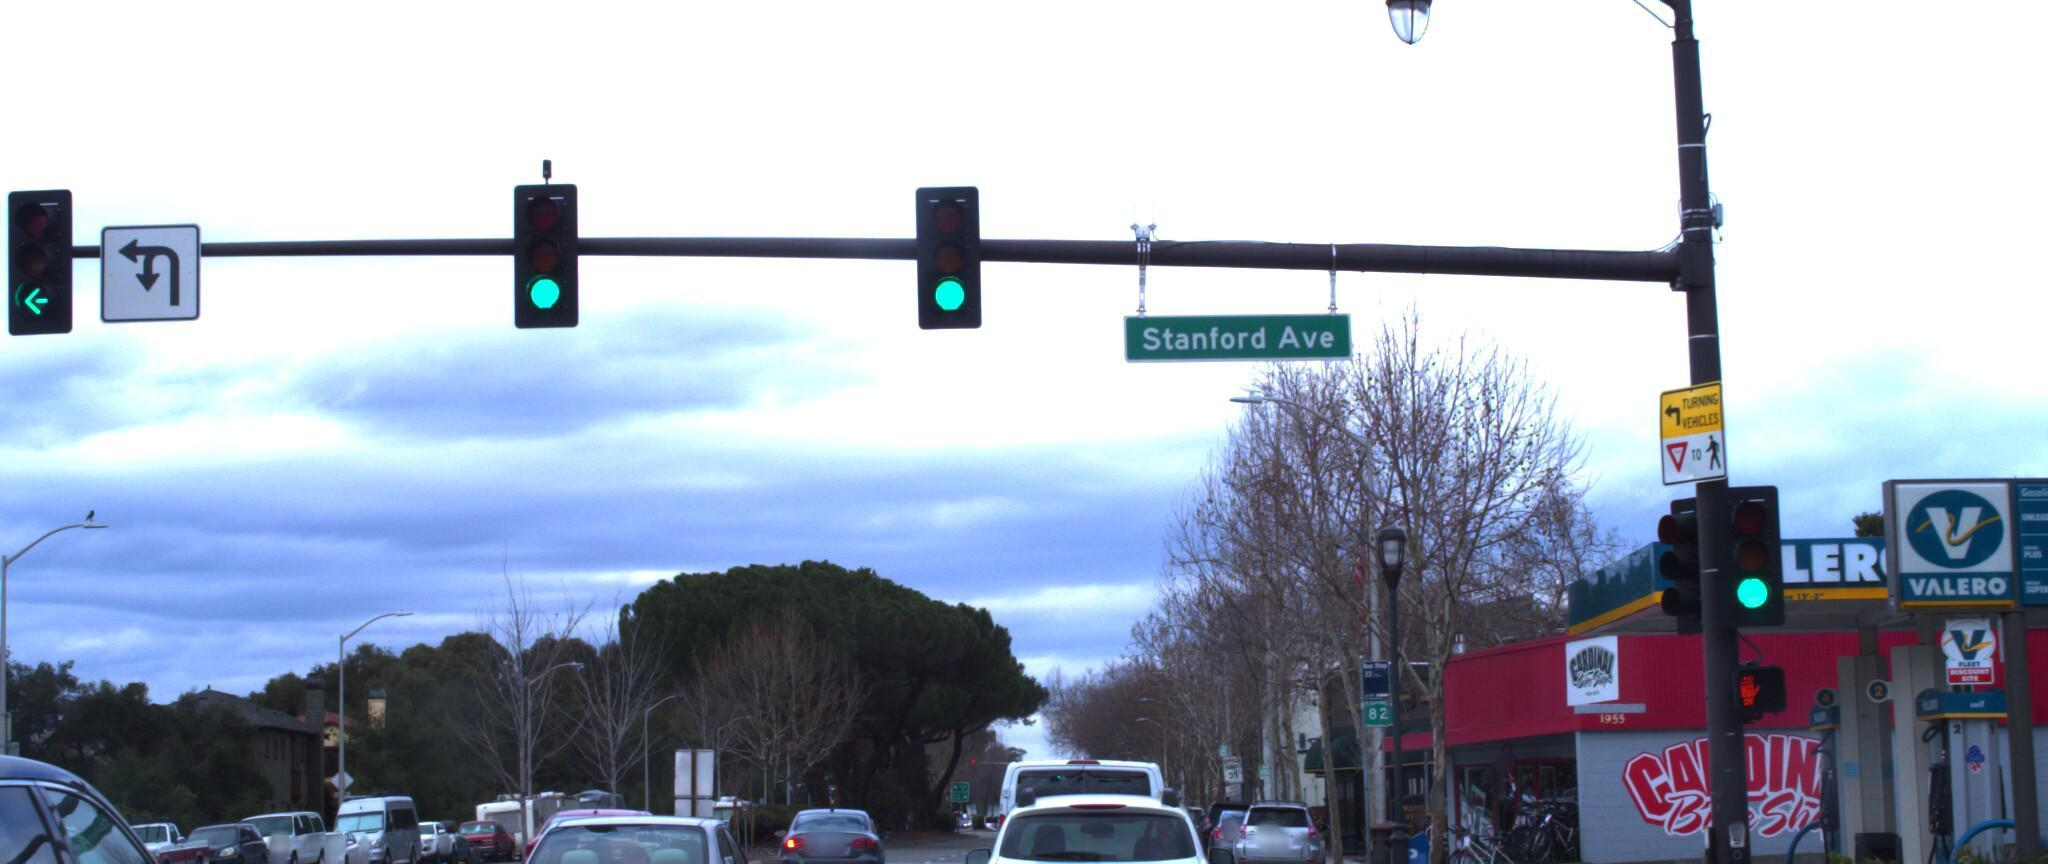car: (0, 623, 376, 864), (943, 767, 1230, 864), (989, 750, 1173, 864), (490, 797, 797, 864), (440, 796, 645, 864), (94, 807, 236, 864), (769, 801, 899, 864), (1233, 790, 1335, 864), (18, 810, 158, 864)
